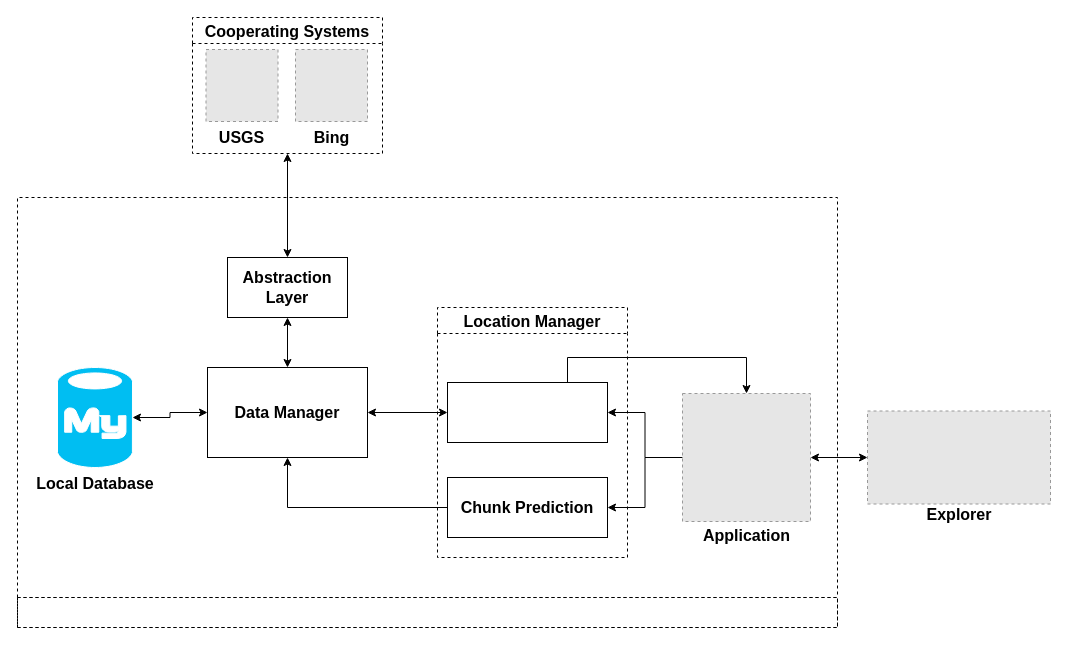
Some shapes in this 1068 by 645 pixel diagram are drawn without their labels. Grey dashed boxes stand in for pictures. The shapes that lost their labels are listed below. From the top down, each one's box as (x1, y1, x2, y2) in pixels, then its label:
(446, 382, 608, 442): Data Request
(16, 596, 838, 628): Local System
